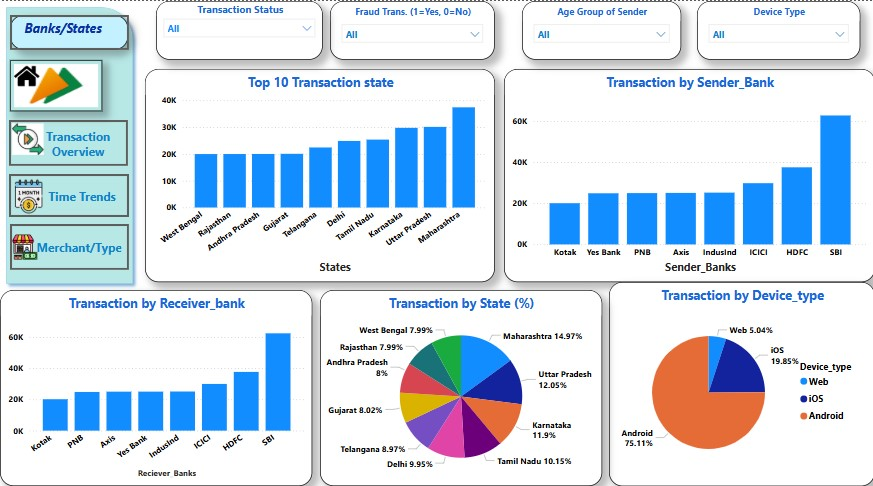

This screenshot's page, from the dashboard's own definition file:
{"tool":"powerbi","page":{"name":"Bank/state","canvas":[1280,720],"ordinal":4},"visuals":[{"type":"columnChart","title":"Top 10 Transaction state","fields":{"Category":["Upi.sender_state"],"Y":["CountNonNull(Upi.transaction id)"]},"box":[212.2,99.5,512.2,311.7],"z":0},{"type":"columnChart","title":"Transaction by Sender_Bank","fields":{"Category":["Upi.sender_bank"],"Y":["CountNonNull(Upi.transaction id)"]},"box":[737.6,99.5,542.9,311.7],"z":1000},{"type":"columnChart","title":"Transaction by Receiver_bank","fields":{"Category":["Upi.receiver_bank"],"Y":["CountNonNull(Upi.transaction id)"]},"box":[0,422.9,456.6,286.8],"z":2000},{"type":"pieChart","title":"Transaction by Device_type","fields":{"Category":["Upi.device_type"],"Y":["CountNonNull(Upi.transaction id)"]},"box":[891.2,411.2,389.3,298.5],"z":3000},{"type":"pieChart","title":"Transaction by State (%)","fields":{"Y":["CountNonNull(Upi.transaction id)"],"Category":["Upi.State"]},"box":[468.3,422.9,412.7,286.8],"z":4000},{"type":"shape","box":[0,0,203.4,422.9],"z":5000},{"type":"slicer","title":"Device Type","fields":{"Values":["Upi.device_type"]},"box":[1020,0,238.5,86.3],"z":6000},{"type":"slicer","title":"Age Group of Sender","fields":{"Values":["Upi.sender_age_group"]},"box":[763.9,0,232.7,86.3],"z":7000},{"type":"slicer","title":"Fraud Trans. (1=Yes, 0=No)","fields":{"Values":["Upi.fraud_flag"]},"box":[482.9,0,241.5,86.3],"z":8000},{"type":"slicer","title":"Transaction Status","fields":{"Values":["Upi.transaction_status"]},"box":[228.3,0,244.4,86.3],"z":9000},{"type":"image","box":[0,256.1,83.4,60],"z":10000},{"type":"actionButton","box":[13.2,253.2,175.6,62.9],"z":11000},{"type":"actionButton","box":[13.2,174.1,174.1,67.3],"z":12000},{"type":"image","box":[8.8,174.1,64.4,55.6],"z":13000},{"type":"actionButton","title":"Marchant","box":[14.6,326.3,174.1,67.3],"z":14000},{"type":"image","box":[8.8,336.6,54.1,46.8],"z":15000},{"type":"image","box":[14.6,86.3,134.6,74.6],"z":16000},{"type":"textbox","box":[14.6,20.5,172.7,51.2],"z":17000},{"type":"actionButton","box":[14.6,20.5,174.1,51.2],"z":18000},{"type":"image","box":[14.6,86.3,48.3,46.8],"z":19000}]}

Visuals, with their boxes in screenshot pixels (x1, y1, x2, y2), scaled from the page's 1280x720 canvas onto the 873x486 screenshot:
"Top 10 Transaction state" columnChart: {"x1": 145, "y1": 67, "x2": 494, "y2": 278}
"Transaction by Sender_Bank" columnChart: {"x1": 503, "y1": 67, "x2": 872, "y2": 278}
"Transaction by Receiver_bank" columnChart: {"x1": 0, "y1": 285, "x2": 311, "y2": 479}
"Transaction by Device_type" pieChart: {"x1": 608, "y1": 278, "x2": 872, "y2": 479}
"Transaction by State (%)" pieChart: {"x1": 319, "y1": 285, "x2": 601, "y2": 479}
shape: {"x1": 0, "y1": 0, "x2": 139, "y2": 285}
"Device Type" slicer: {"x1": 696, "y1": 0, "x2": 858, "y2": 58}
"Age Group of Sender" slicer: {"x1": 521, "y1": 0, "x2": 680, "y2": 58}
"Fraud Trans. (1=Yes, 0=No)" slicer: {"x1": 329, "y1": 0, "x2": 494, "y2": 58}
"Transaction Status" slicer: {"x1": 156, "y1": 0, "x2": 322, "y2": 58}
image: {"x1": 0, "y1": 173, "x2": 57, "y2": 213}
actionButton: {"x1": 9, "y1": 171, "x2": 129, "y2": 213}
actionButton: {"x1": 9, "y1": 118, "x2": 128, "y2": 163}
image: {"x1": 6, "y1": 118, "x2": 50, "y2": 155}
"Marchant" actionButton: {"x1": 10, "y1": 220, "x2": 129, "y2": 266}
image: {"x1": 6, "y1": 227, "x2": 43, "y2": 259}
image: {"x1": 10, "y1": 58, "x2": 102, "y2": 109}
textbox: {"x1": 10, "y1": 14, "x2": 128, "y2": 48}
actionButton: {"x1": 10, "y1": 14, "x2": 129, "y2": 48}
image: {"x1": 10, "y1": 58, "x2": 43, "y2": 90}
